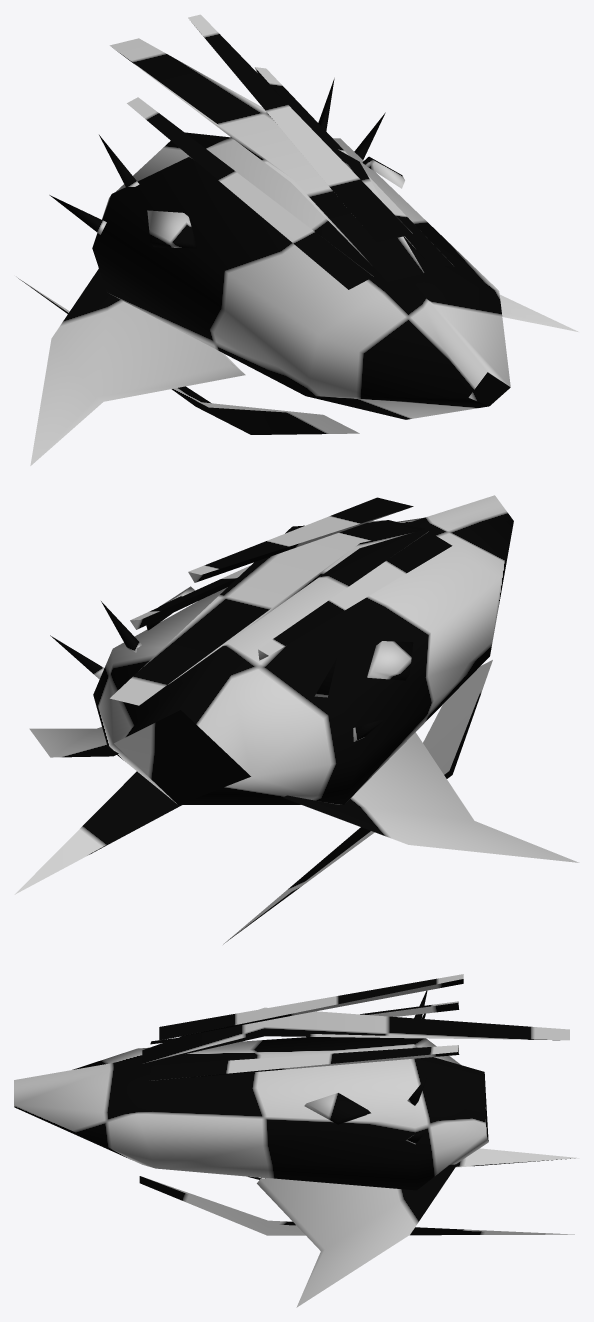
File: drone_flax_5.obj
3 renders of one model, top to bottom at view 1: azimuth 30°, elevation 25°; view 2: azimuth 150°, elevation 25°; view 3: azimuth 270°, elevation 25°, orthographic. The views are drawn at different scales.
Visible parts, largest first — view 1: main; view 2: main; view 3: main.
Part boxes in pixels (bbox=[...]): main: bbox=[17, 14, 578, 465]; main: bbox=[14, 495, 579, 944]; main: bbox=[14, 974, 579, 1307].
Bounding box in the file's own units: 21.59 × 11.51 × 25.39.
Materials: 1 (1 with a texture image).
